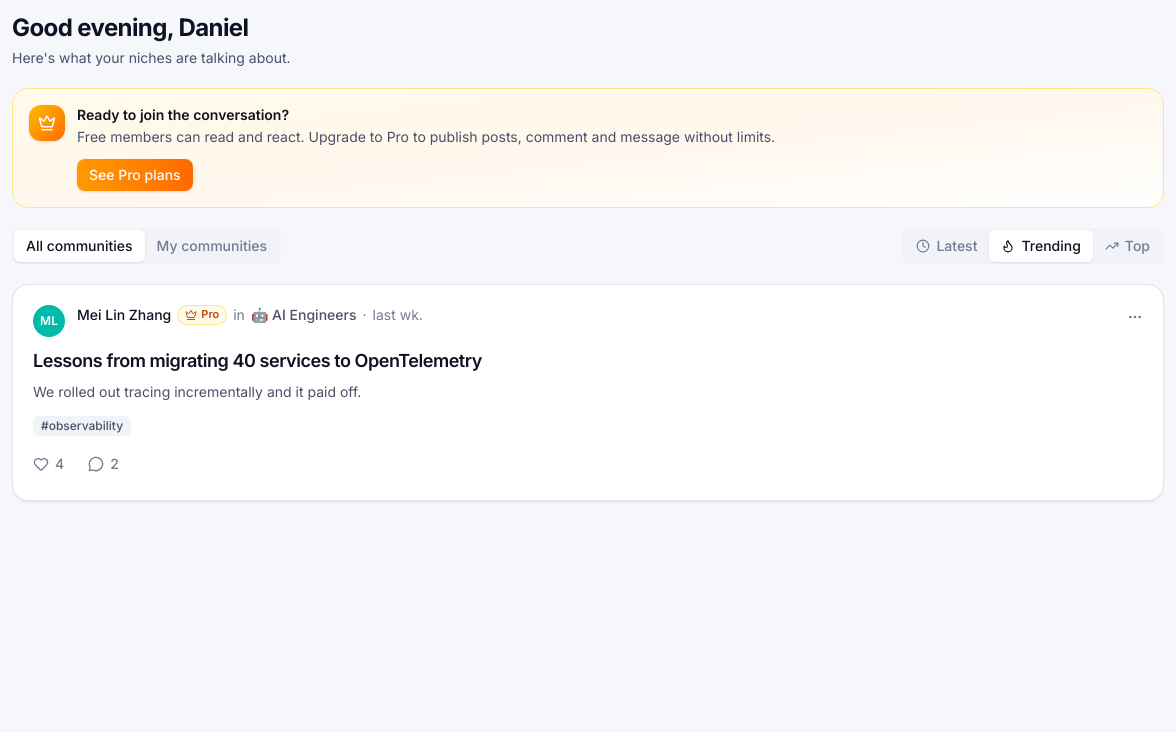
FeedPage › optimistically updates the like count for Free members
Click the button named "like.".
click(49, 464)  # box [23,448,74,480]
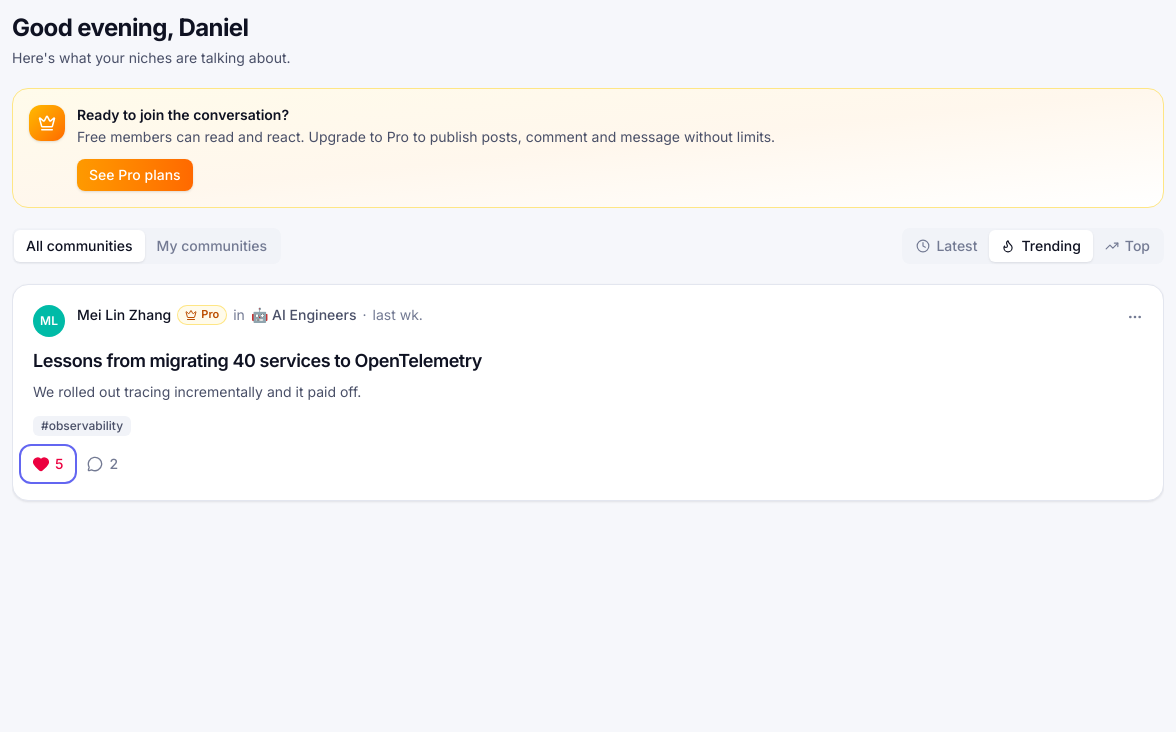
Now the button named "unlike" reads "5", box [23,448,74,480]
